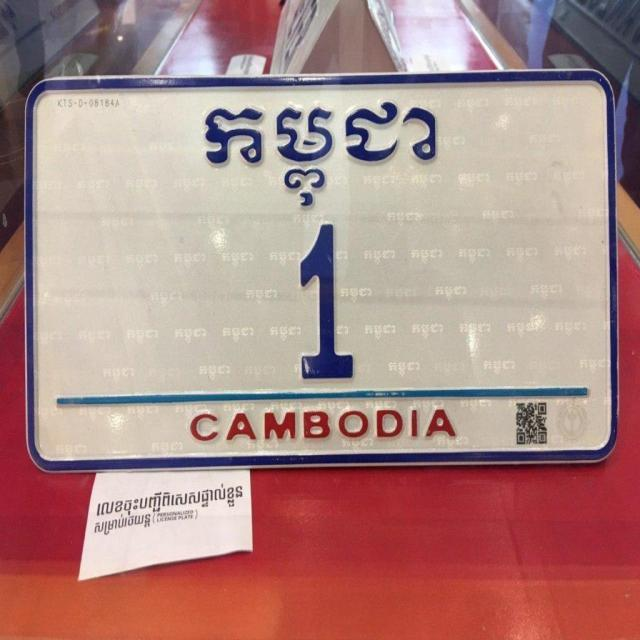Cambodia: (203, 98, 438, 212)
